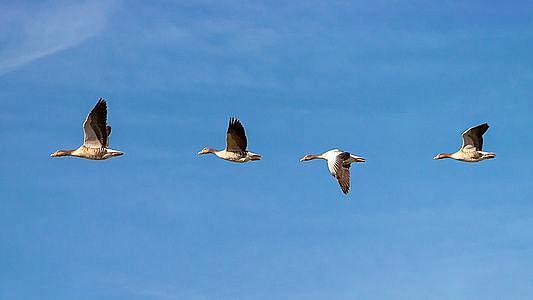bird: (48, 97, 125, 163), (194, 116, 263, 167), (299, 147, 364, 195), (435, 122, 497, 166)
